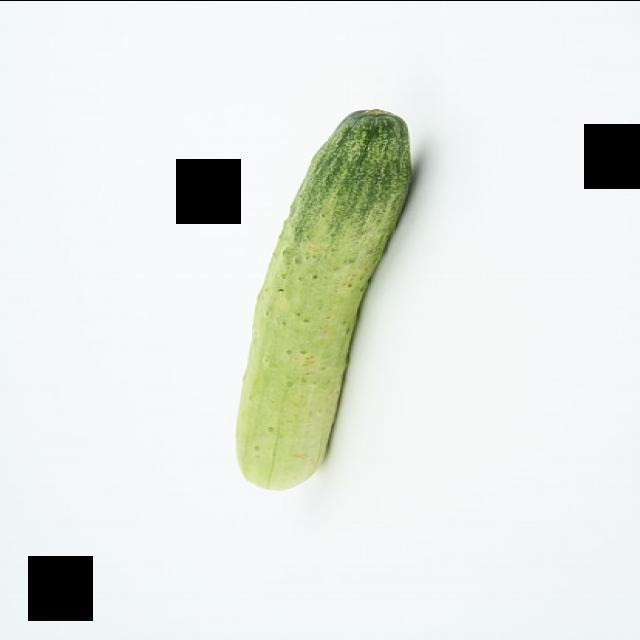cucumber: (218, 89, 432, 506)
